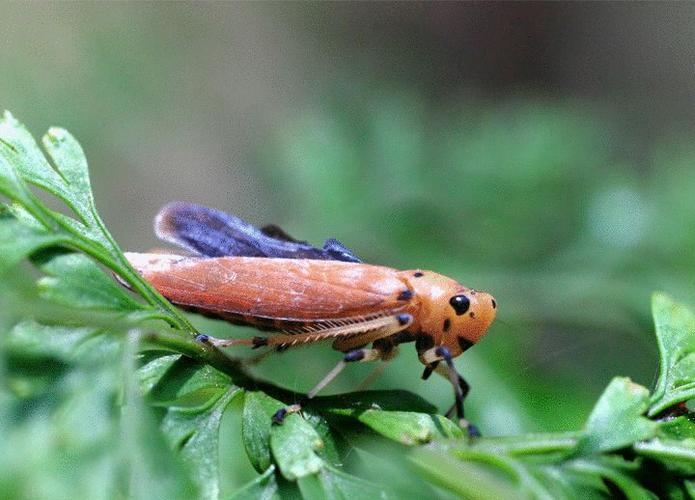Cicadellidae: (114, 254, 496, 420)
